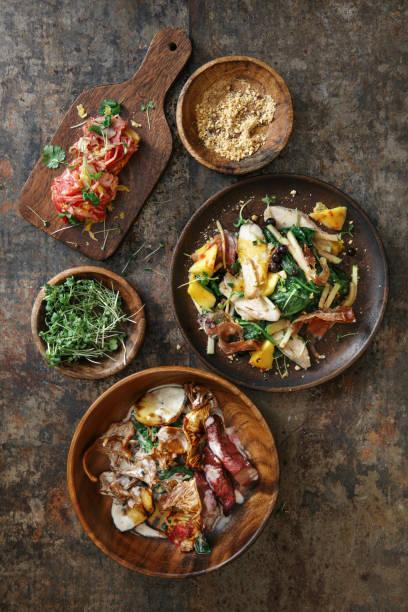Braised Crucian Carp: (168, 175, 386, 388), (65, 367, 279, 574), (17, 26, 190, 258)
